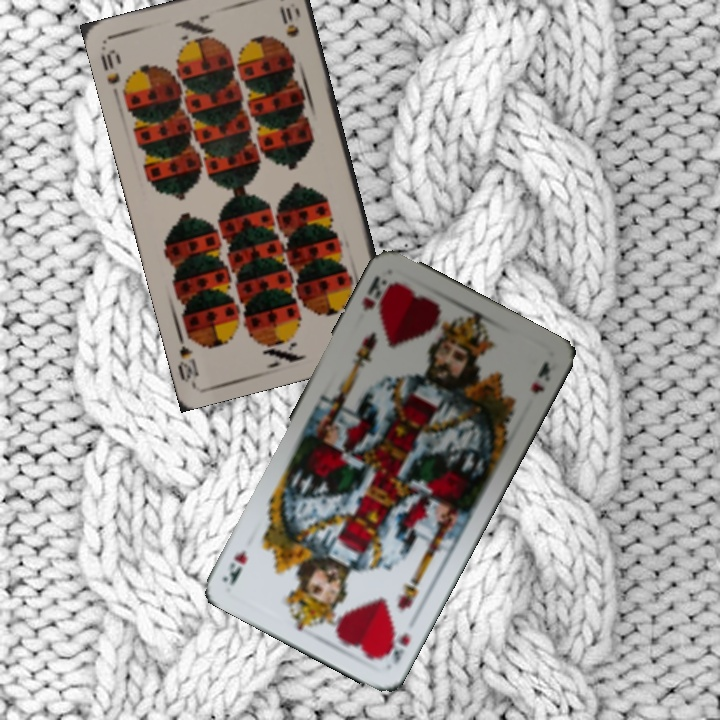HK: (357, 271, 397, 317), (376, 627, 413, 667)
S10: (96, 45, 124, 87)
